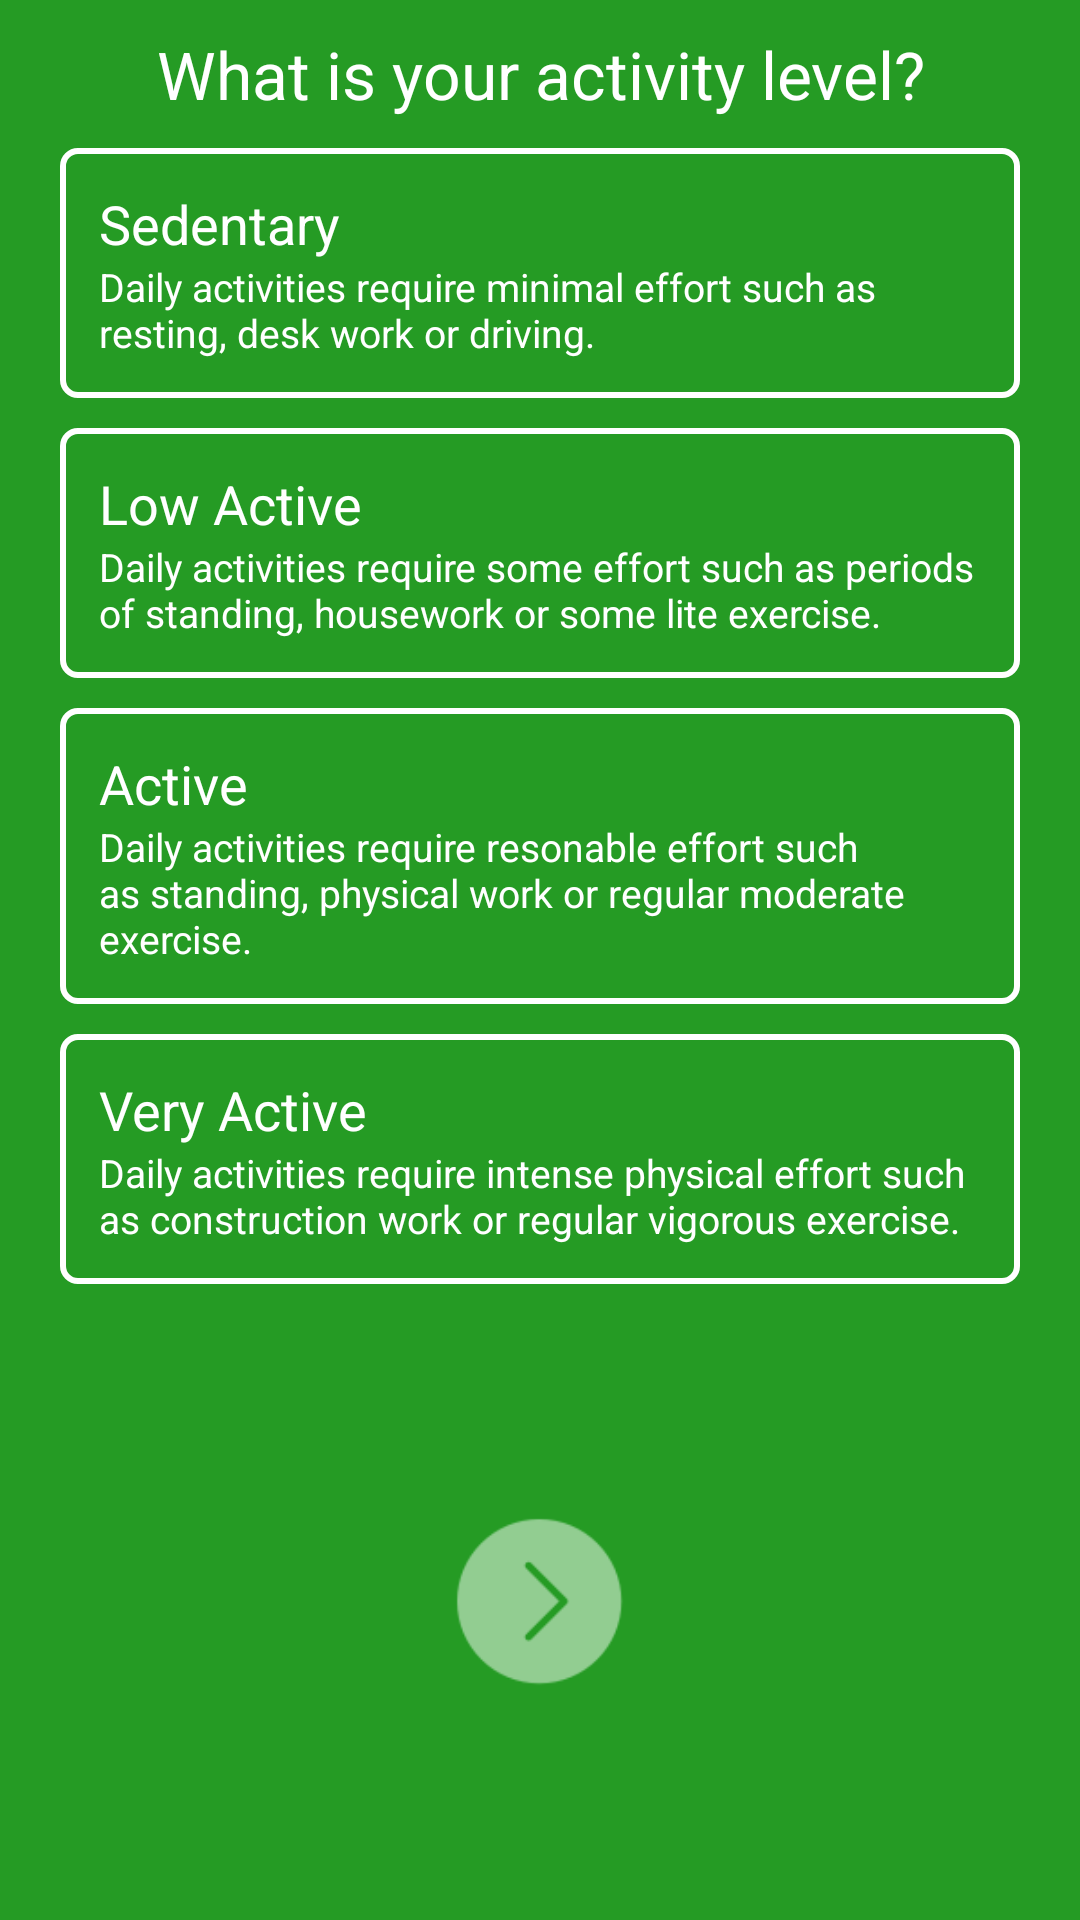

Where icons sit on this 1080*1920 app screen, as (x1, y1, x2, y2):
next page: (457, 1519, 622, 1684)
